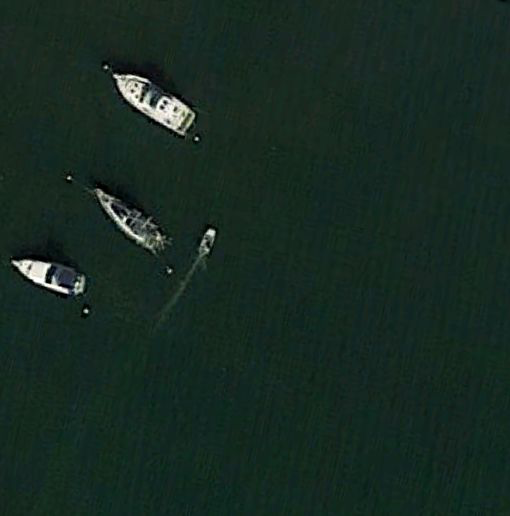boat: (108, 69, 200, 139), (95, 187, 167, 253), (11, 259, 89, 296), (197, 226, 218, 260)
